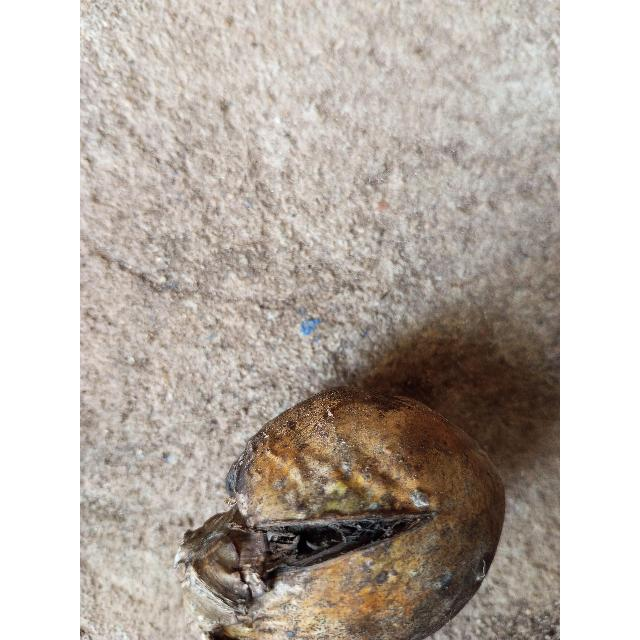damaged: (175, 387, 505, 640)
